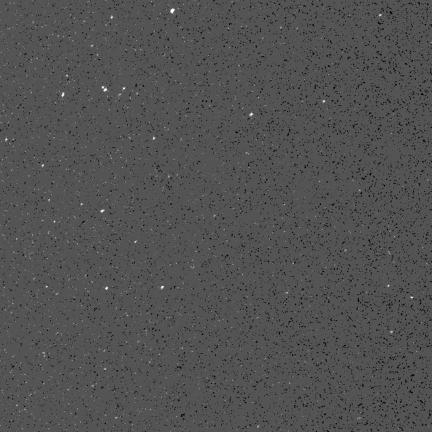blob: (171, 9, 175, 13)
